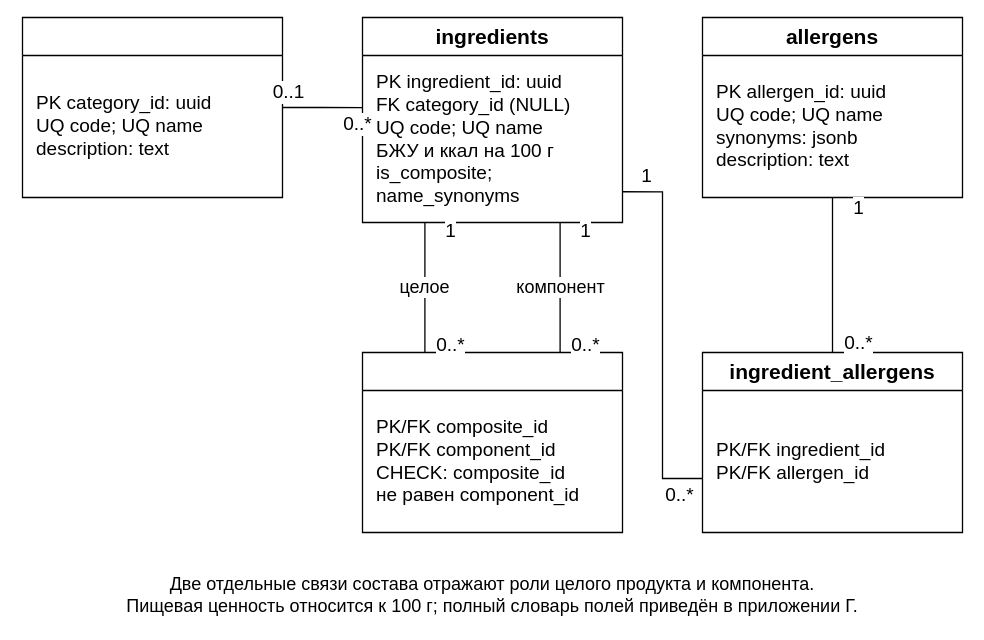
Image size: 984x640. Some labels were removed from this diagram. Each missing label, with the box of its shape:
ingredient_categories: (21, 16, 283, 198)
ingredient_components: (361, 351, 623, 533)
